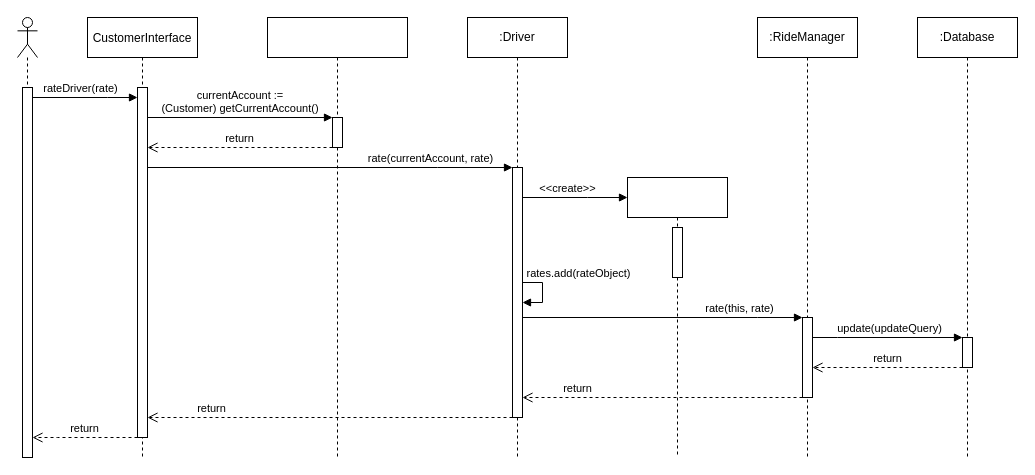
Image size: 1035x475. Some labels were removed from this diagram. The box of each missing label's shape, as (x1, y1, x2, y2) in pixels:
:Rate: (626, 176, 728, 458)
AuthenticationManager: (266, 16, 408, 458)
